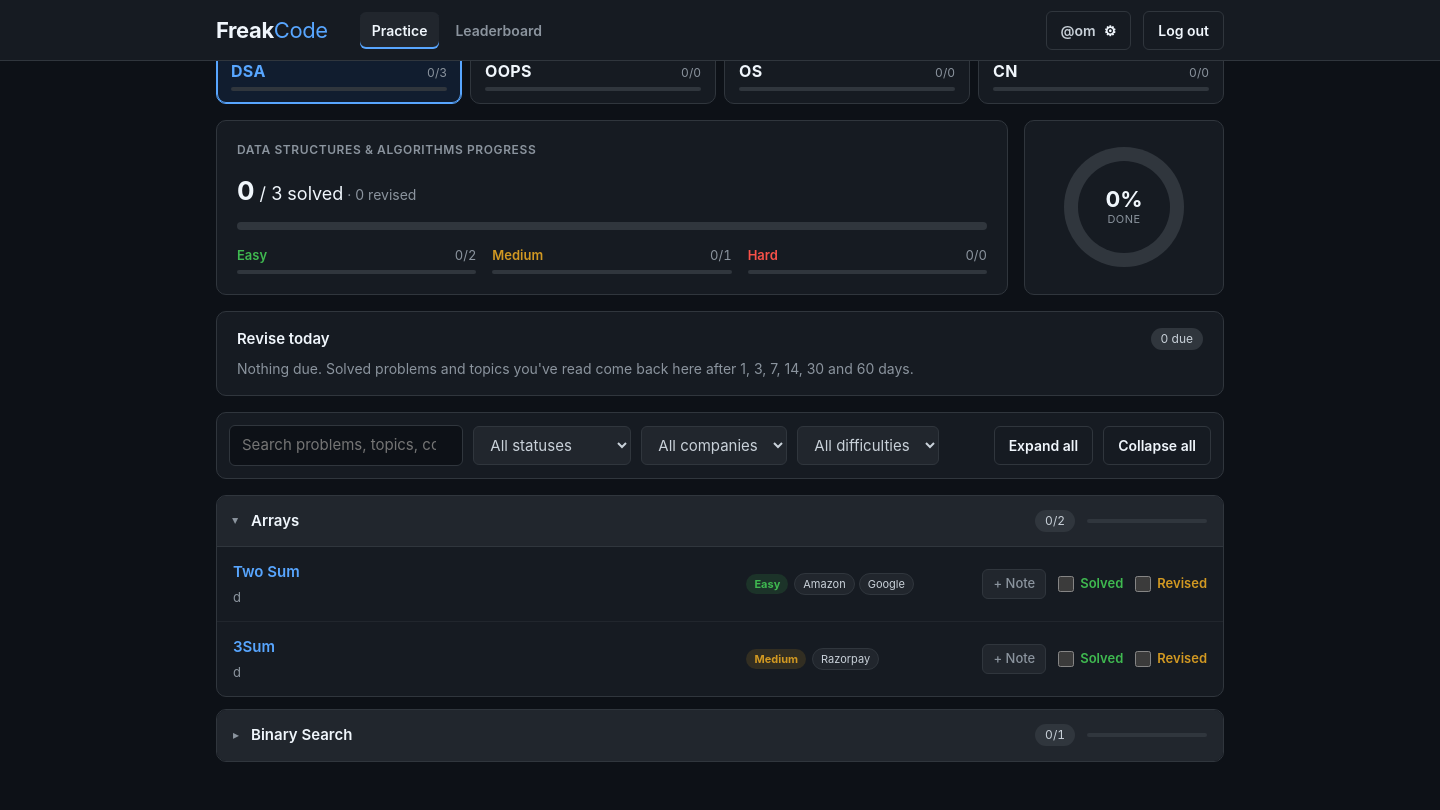
Test: notes can be added from a problem row
(page scrolled)
Click the button with aria-label "Add notes for Two Sum" at coordinates (1014, 584), box [982,569,1046,599]
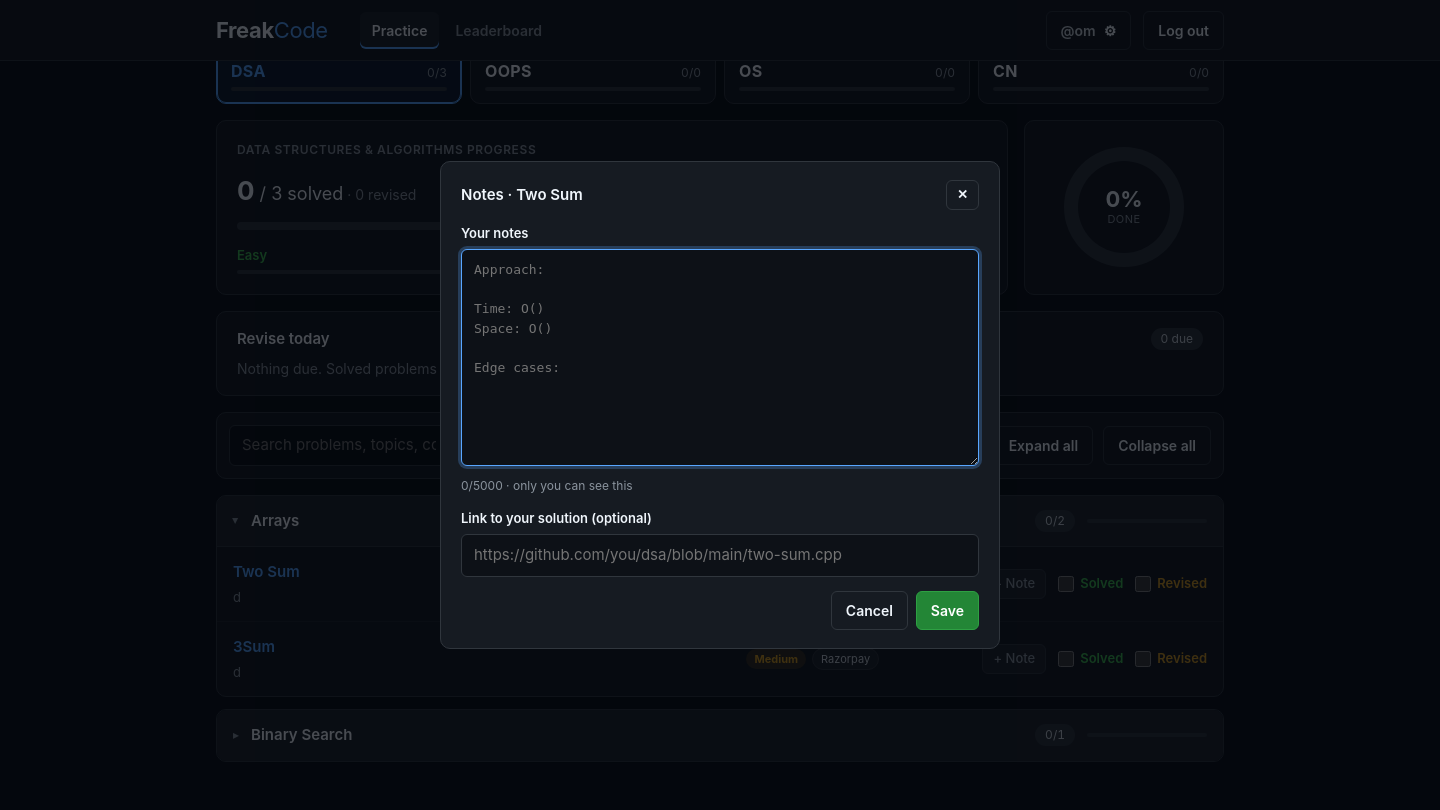
Type "two pointers" into the text box labelled "Your notes" at coordinates (720, 358), box [461,249,979,466]
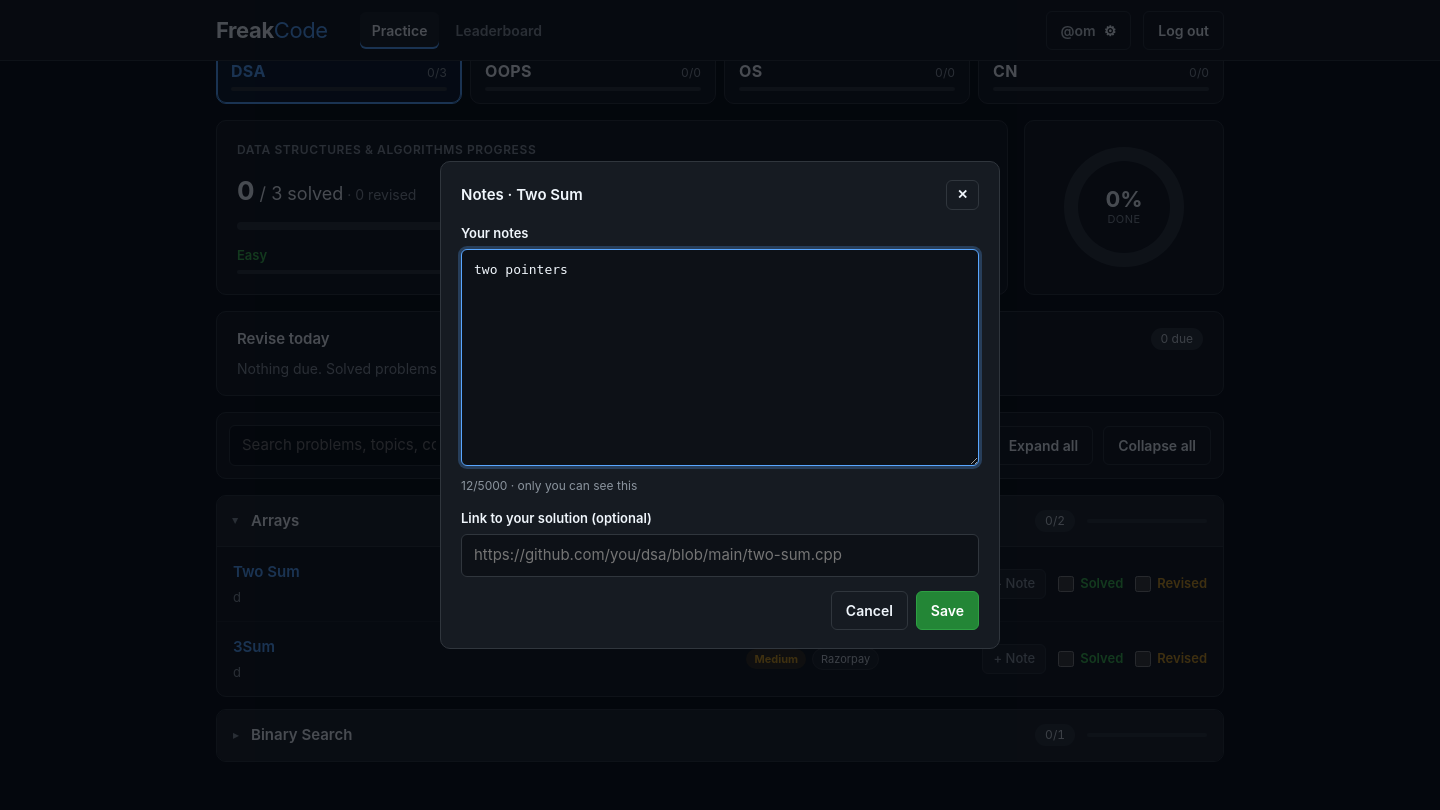
Click the button "Save" at coordinates (947, 610), box [916,591,979,630]
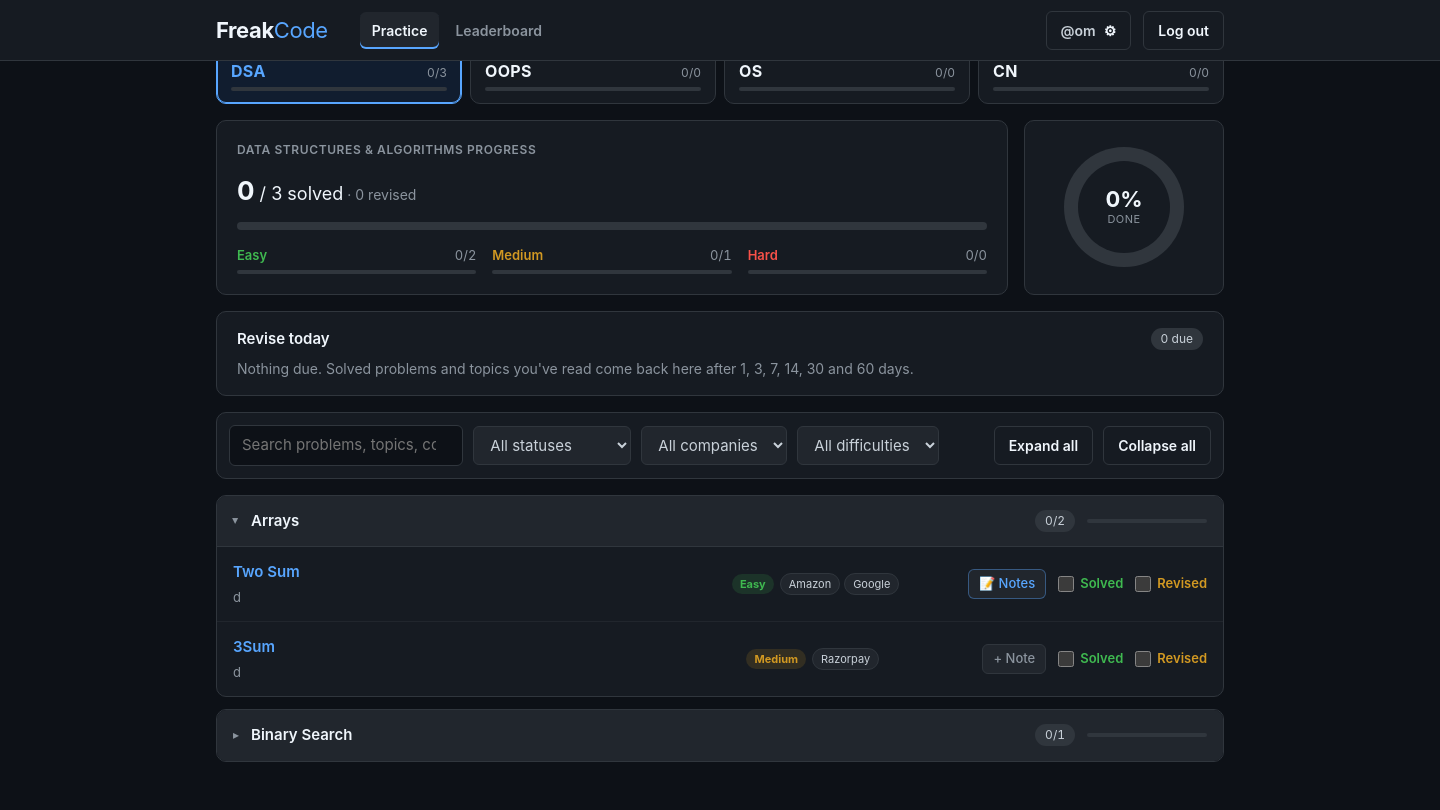
Check: the dialog is gone
Check: the button with aria-label "Edit notes for Two Sum" is shown, box [968,569,1046,599]
